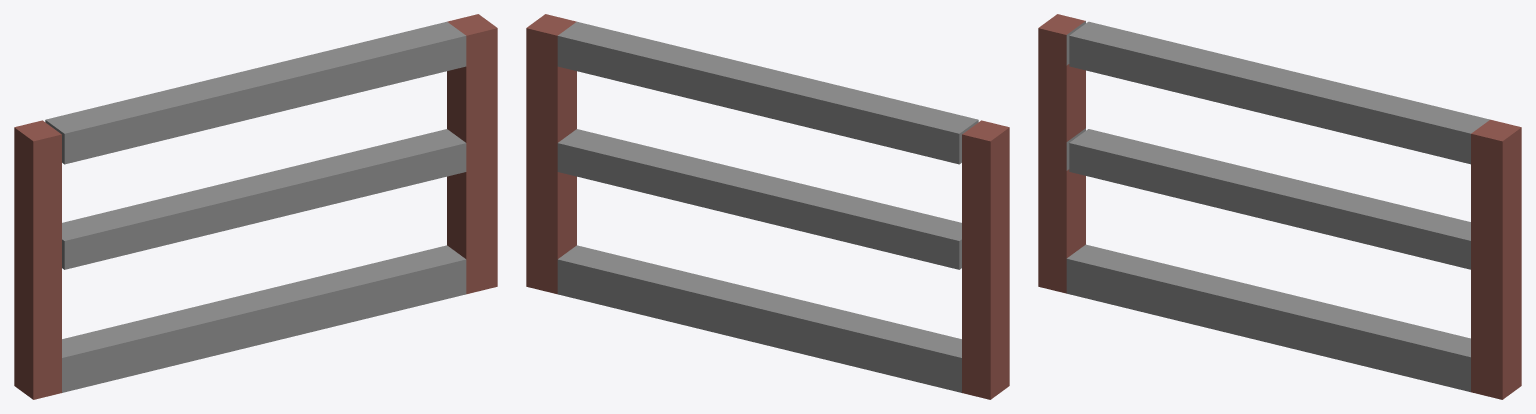
The model's file is ClubFence.fbx.
3 views of the same model, side by side, from view 1: azimuth 30°, elevation 25°; view 2: azimuth 150°, elevation 25°; view 3: azimuth 330°, elevation 25° (orthographic).
Visible parts, largest first — view 1: Cube; view 2: Cube; view 3: Cube.
Boxes of the visible parts, box(x1,y1,x2,y2) form: Cube: box(14, 14, 497, 399); Cube: box(526, 14, 1009, 399); Cube: box(1038, 14, 1521, 399).
Bounding box in the file's own units: 422 × 225 × 30.36.
